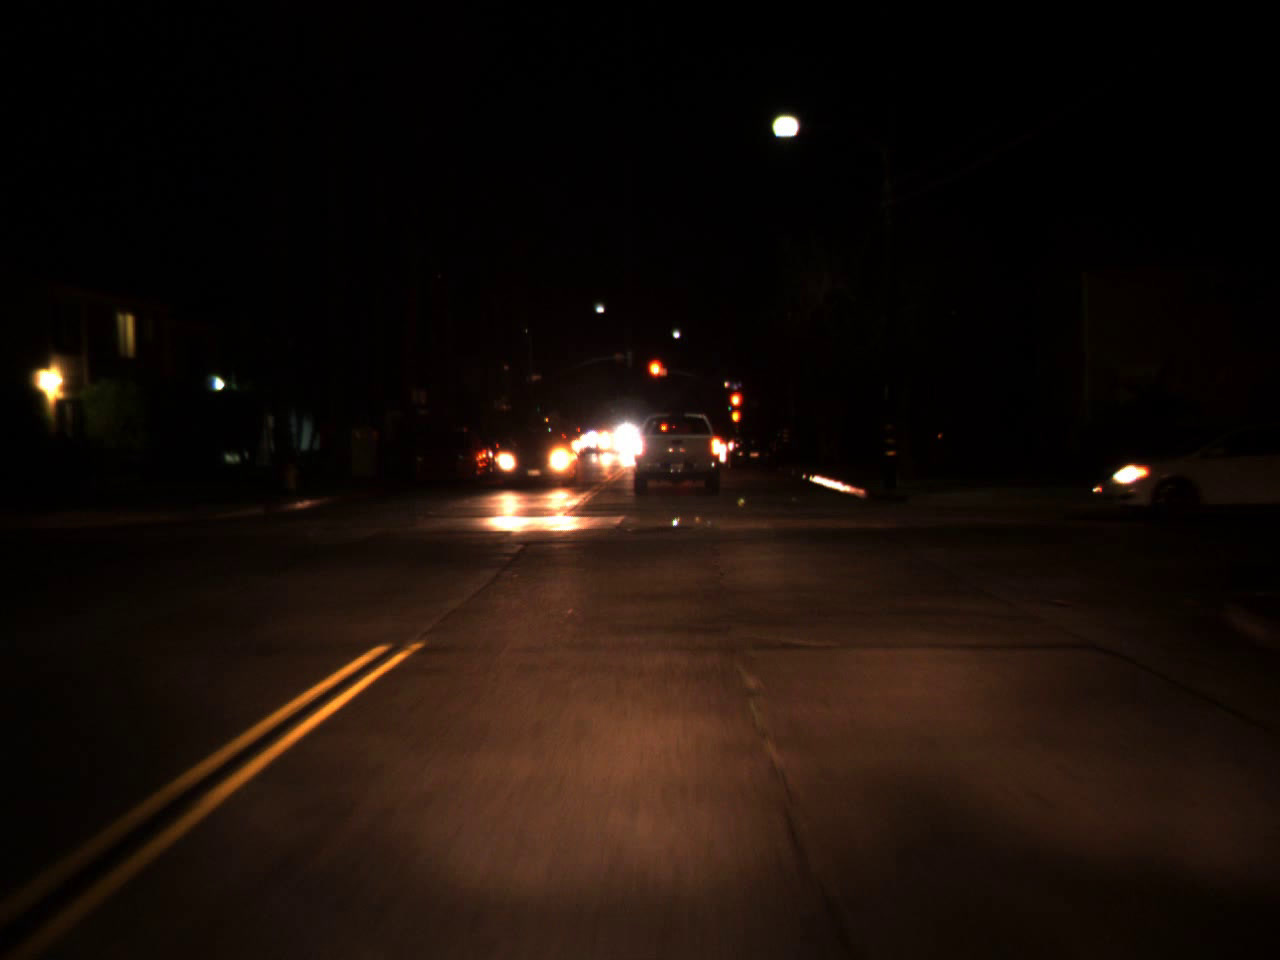stop: (645, 357, 667, 397), (727, 391, 745, 423)
